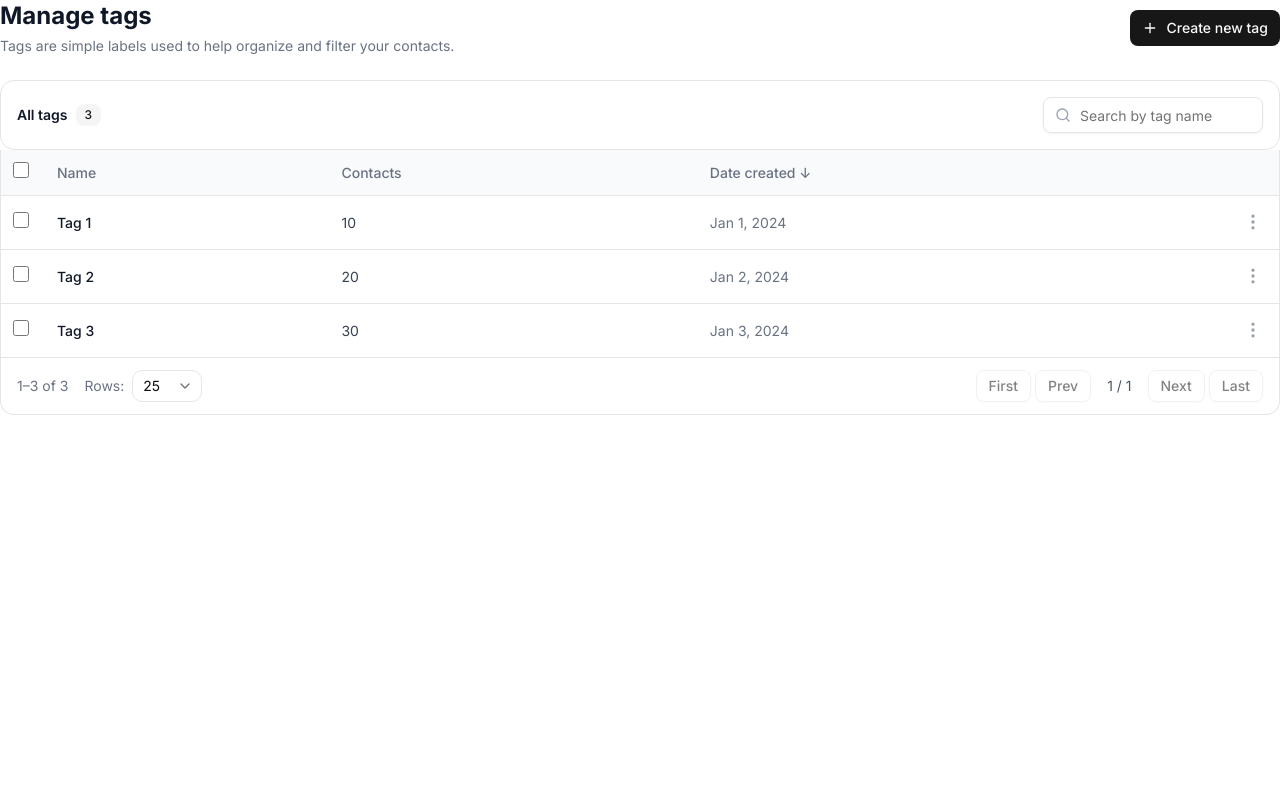
Scenario: TagsManager › opens delete confirmation dialog via action menu
The image size is (1280, 800).
Click the button without text in the row of "Tag 1".
click(1253, 222)  # box [1239,208,1267,236]
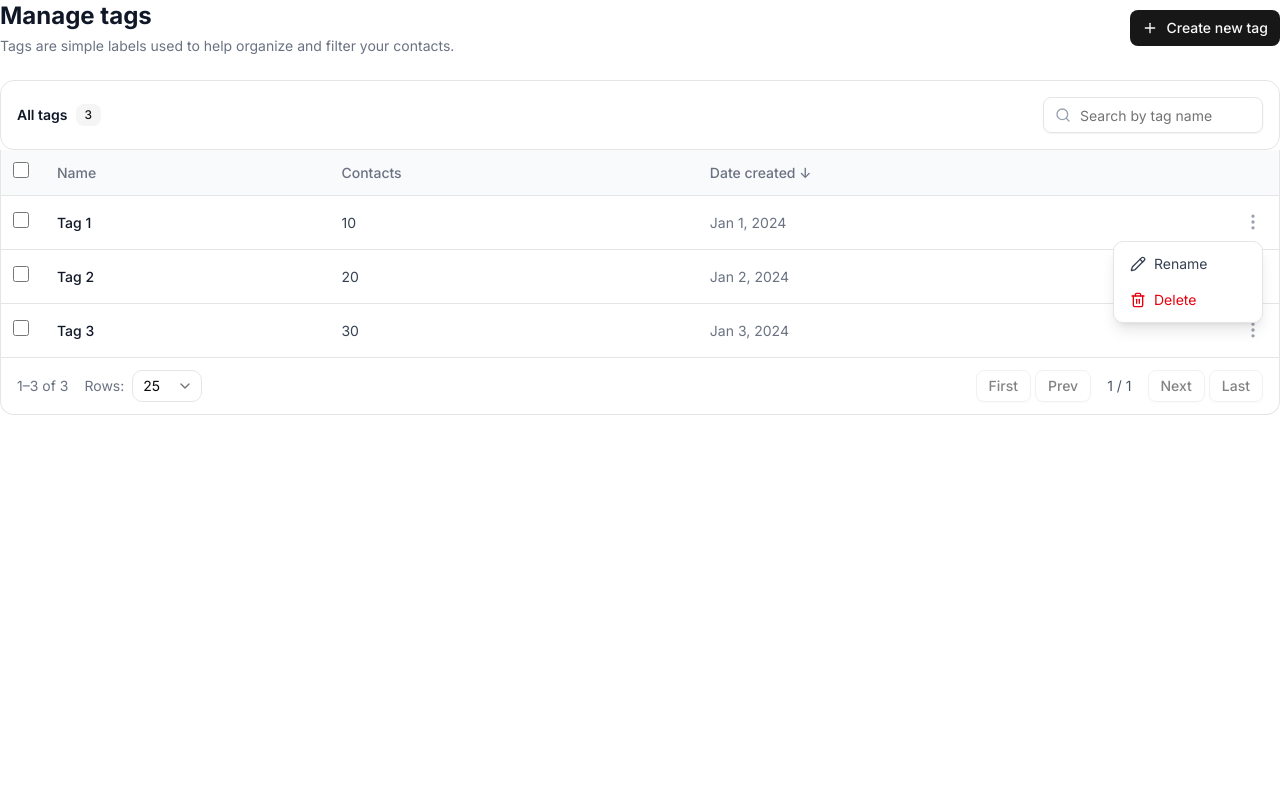
Click the button "Delete".
click(1188, 300)  # box [1114,282,1262,318]
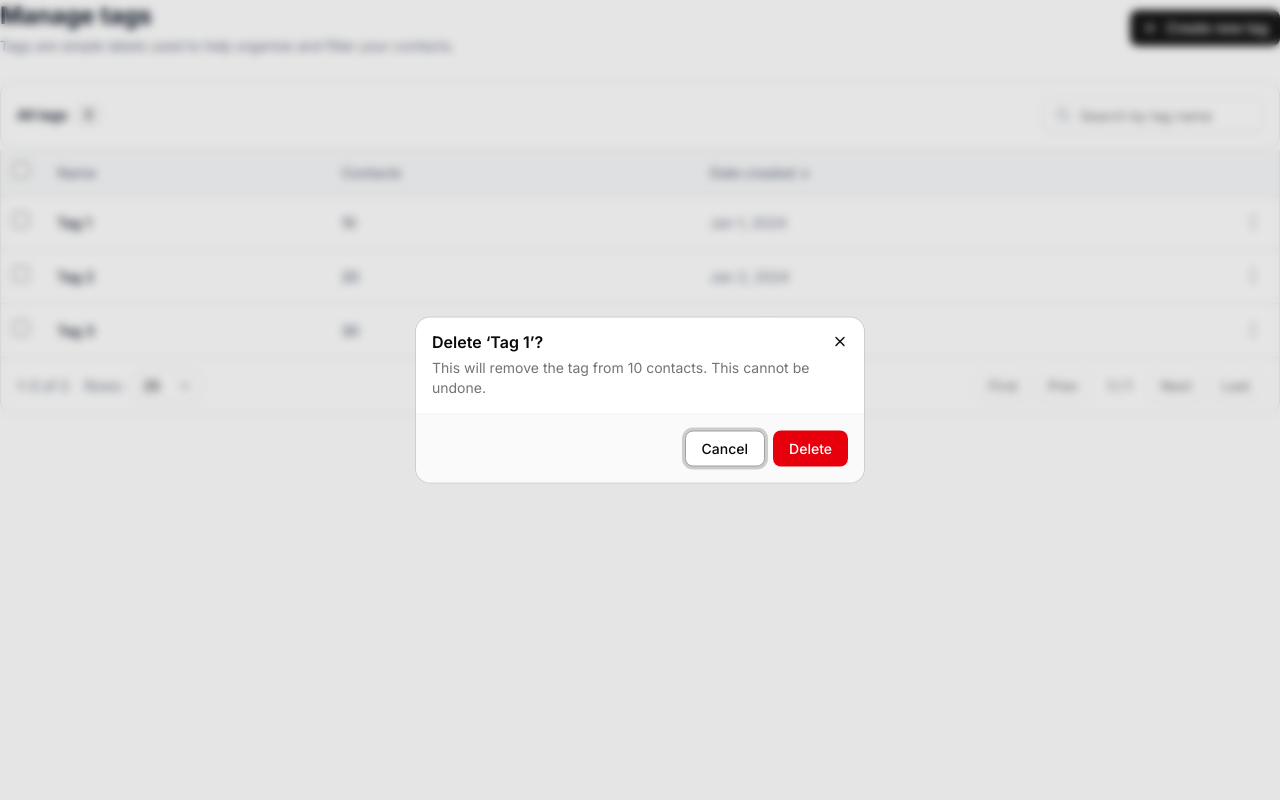
Result: the text "This will remove the tag from" is shown at [432,358,628,376]
